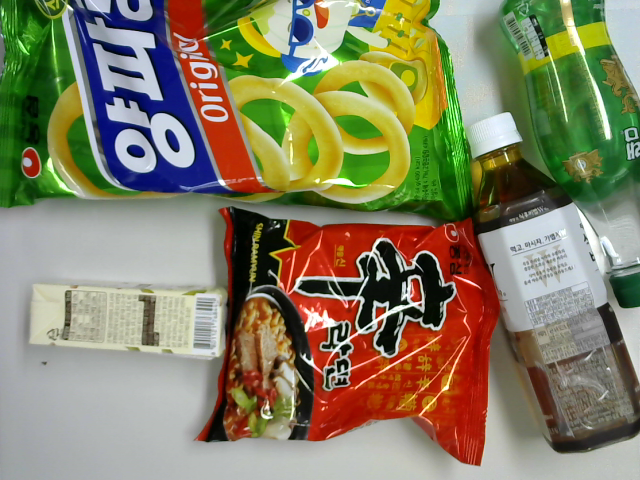99.89_Soymilk: (27, 280, 232, 361)
Oninon_Ring: (1, 1, 477, 224)
Post-meal_recipe_W_tea_500ml: (468, 110, 640, 454)
Seagram_Lemon_Carbonated_Water: (495, 1, 640, 311)
Sinramen: (192, 205, 502, 468)
